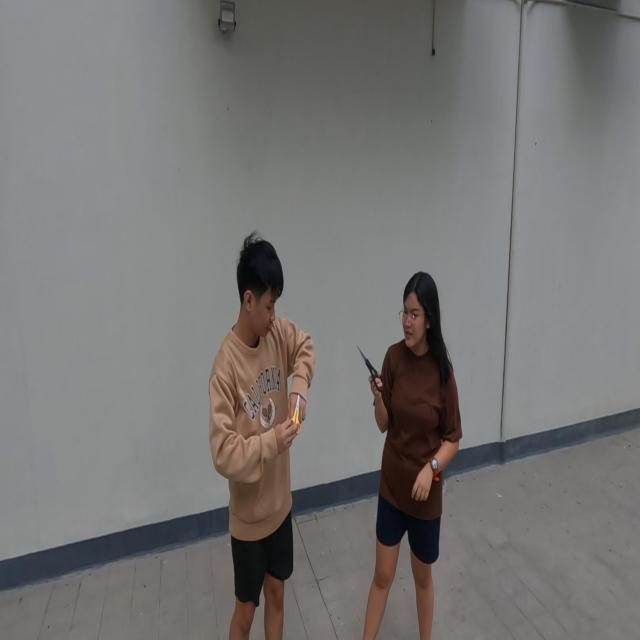scissor: (356, 343, 384, 395), (287, 393, 301, 435)
